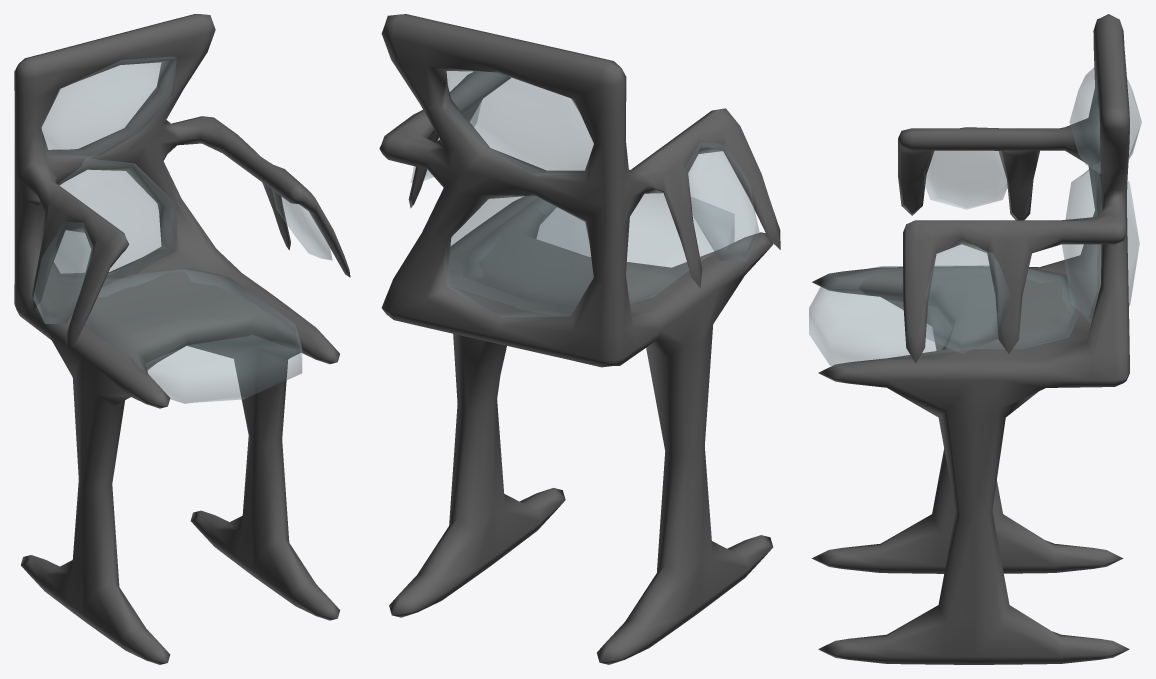
Rendered from chair.fbx.
3 views of the same model, side by side, from view 1: azimuth 30°, elevation 25°; view 2: azimuth 150°, elevation 25°; view 3: azimuth 270°, elevation 25° (orthographic). The views are drawn at different scales.
Parts seen in each view (by area): view 1: CHAIR, DUMDN, DUMUP, DUM_MID, DUMR, DUMLF; view 2: CHAIR, DUM_MID, DUMUP, DUMDN, DUMR; view 3: CHAIR, DUMDN, DUMLF, DUM_MID, DUMR, DUMUP.
Boxes of the visible parts, x1,y1,x2,y2 form: CHAIR: (14,14,350,664); DUMDN: (72,267,302,403); DUMUP: (40,57,176,157); DUM_MID: (39,158,177,280); DUMR: (33,221,92,323); DUMLF: (272,190,332,260); CHAIR: (379,14,780,664); DUM_MID: (444,195,593,317); DUMUP: (444,69,593,175); DUMDN: (463,193,734,306); DUMR: (685,142,759,261); CHAIR: (812,14,1129,664); DUMDN: (809,265,1082,365); DUMLF: (926,240,1010,353); DUM_MID: (1062,163,1139,324); DUMR: (923,150,1007,209); DUMUP: (1069,66,1141,173).
Bounding box in the file's own units: 3.69 × 6.37 × 3.45.
